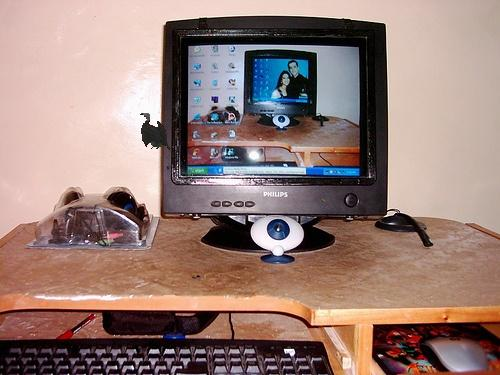tampered: (141, 114, 195, 152)
